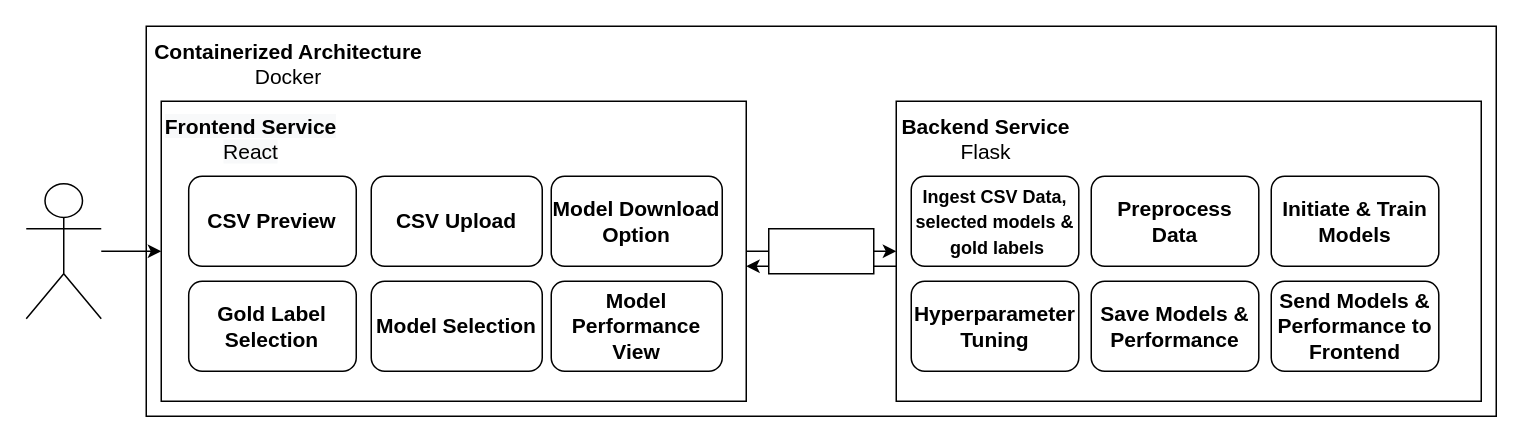
This 1523x443 diagram has some shape labels left out. The shapes that lost their labels are listed below. From the top down, each one's centre as x and y in pixels, then its label:
At (63,250): "User".
At (820,250): "HTTP".
